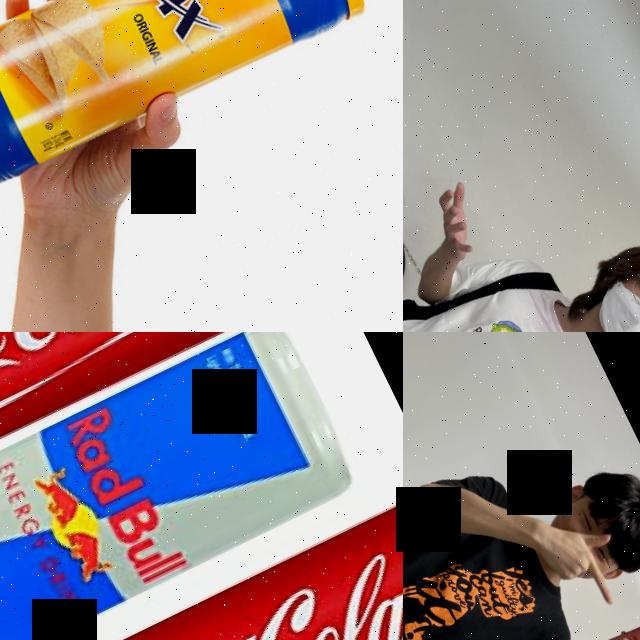can: (0, 332, 366, 640), (0, 486, 403, 640), (0, 332, 279, 538), (578, 615, 640, 640)
